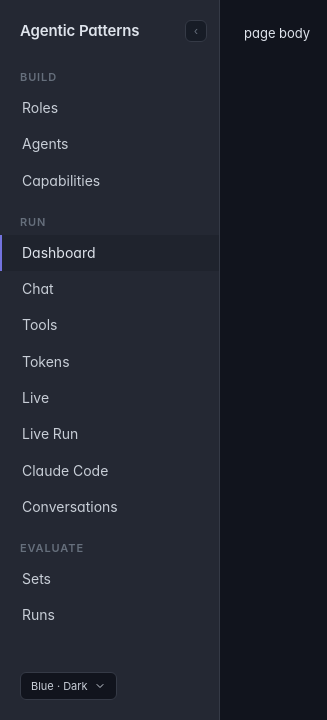
AppShell — desktop (no matchMedia stub) › collapse toggle persists apdash-nav-collapsed unchanged (guard rail)
The image size is (327, 720).
Click the button named "Collapse navigation" at (196, 31), box [185,20,207,42]
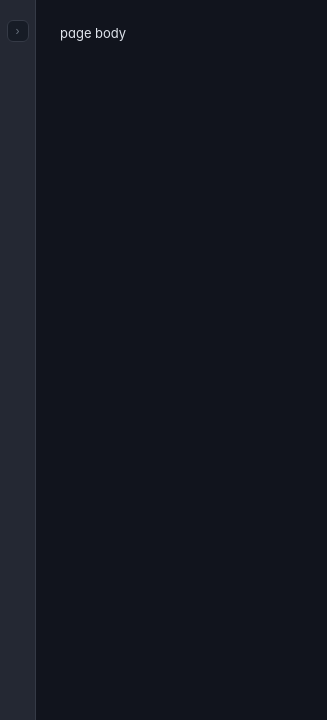
Check: the link "Roles" is gone
